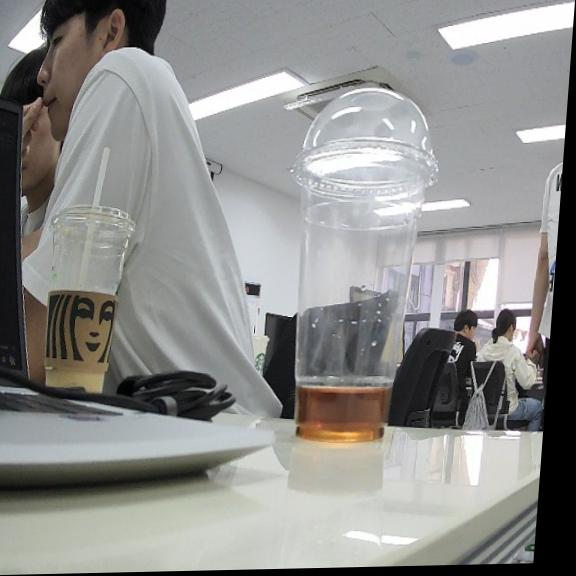Plastik: (294, 88, 437, 440)
